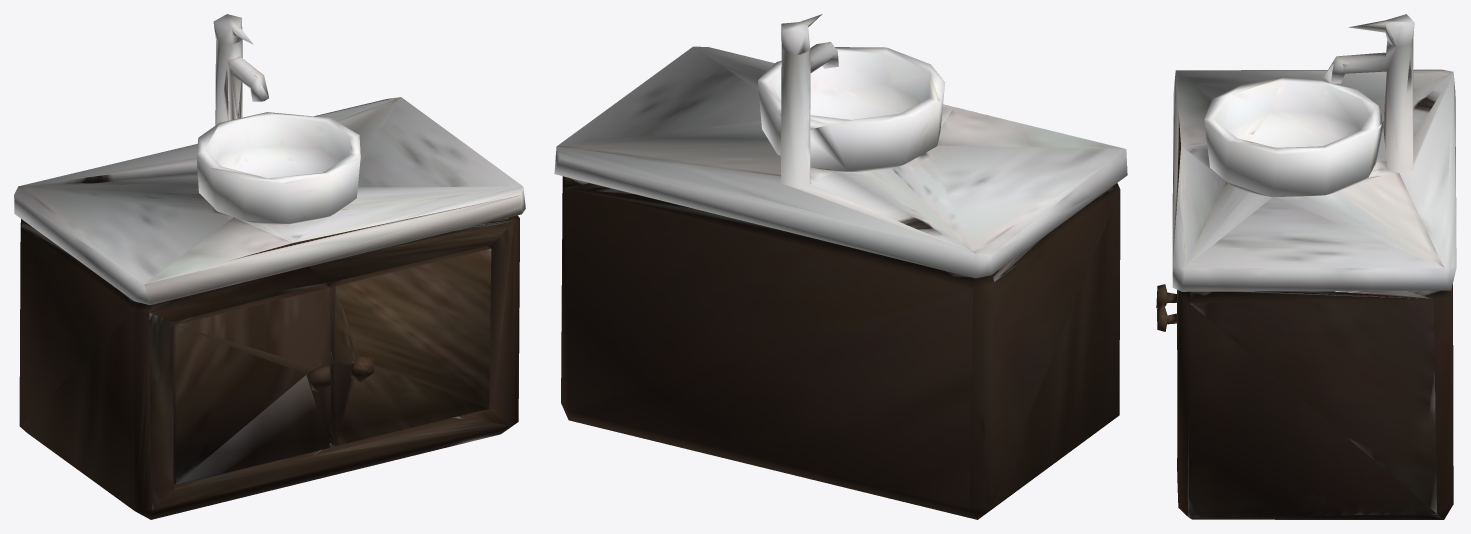
Rendered from sink.glb.
3 views of the same model, side by side, from view 1: azimuth 30°, elevation 25°; view 2: azimuth 150°, elevation 25°; view 3: azimuth 270°, elevation 25° (orthographic). The views are drawn at different scales.
Visible parts, largest first — view 1: Mesh_0; view 2: Mesh_0; view 3: Mesh_0.
Part boxes in pixels (x1,y1,x2,y2): Mesh_0: (14, 14, 525, 519); Mesh_0: (554, 14, 1127, 519); Mesh_0: (1156, 14, 1456, 519).
Bounding box in the file's own units: 1 × 0.95 × 0.6301.
Materials: 1 (1 with a texture image).
